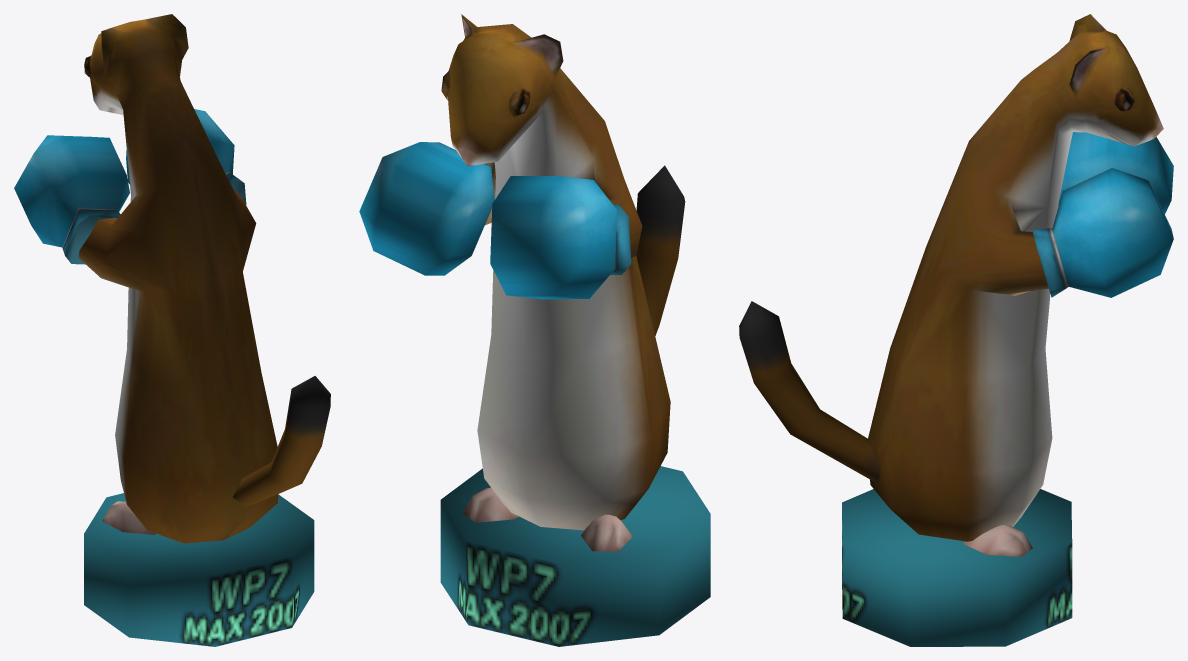
Rendered from wp7_vs.ico.obj.
3 views of the same model, side by side, from view 1: azimuth 30°, elevation 25°; view 2: azimuth 150°, elevation 25°; view 3: azimuth 270°, elevation 25° (orthographic). The views are drawn at different scales.
Size of the model in its own units: 1.97 by 4.95 by 3.45.
1 material, 1 textured.
